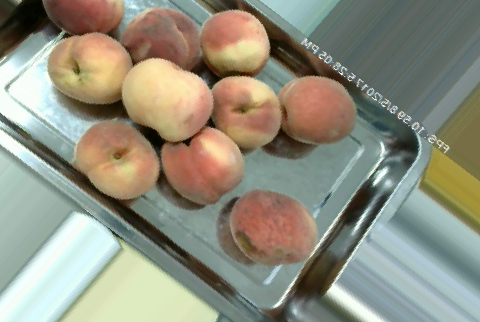Peach: (121, 59, 212, 141), (225, 189, 319, 267), (71, 120, 164, 197), (158, 127, 249, 202), (44, 29, 131, 105), (117, 3, 211, 71), (273, 73, 357, 147), (208, 73, 284, 154), (195, 10, 270, 75)
